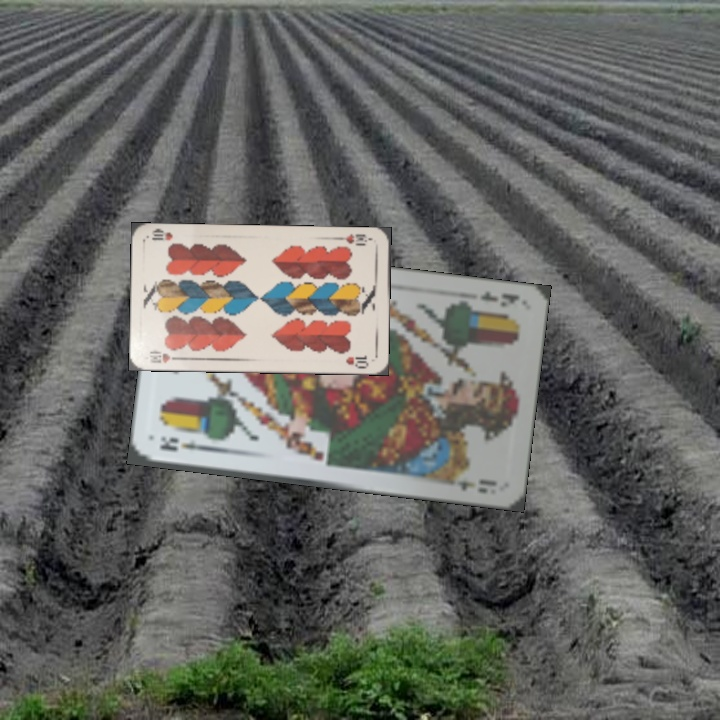EK: (155, 432, 213, 454), (476, 288, 522, 310)
H10: (334, 229, 375, 248), (145, 347, 184, 366)
